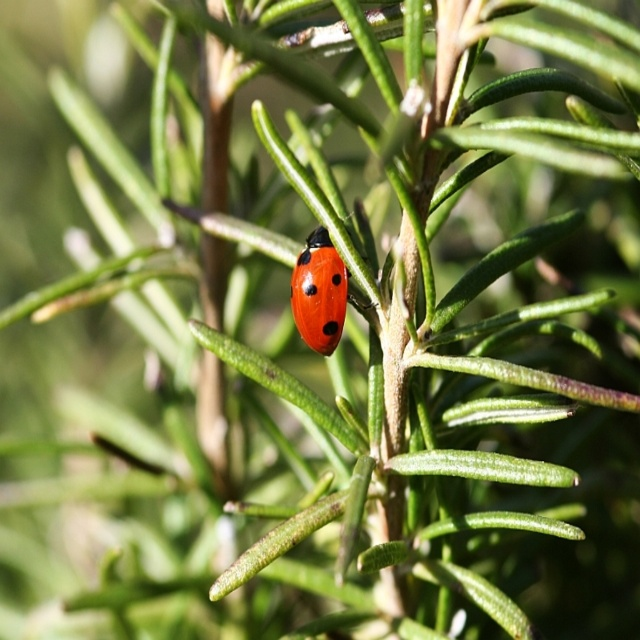Ladybug: (288, 227, 379, 359)
